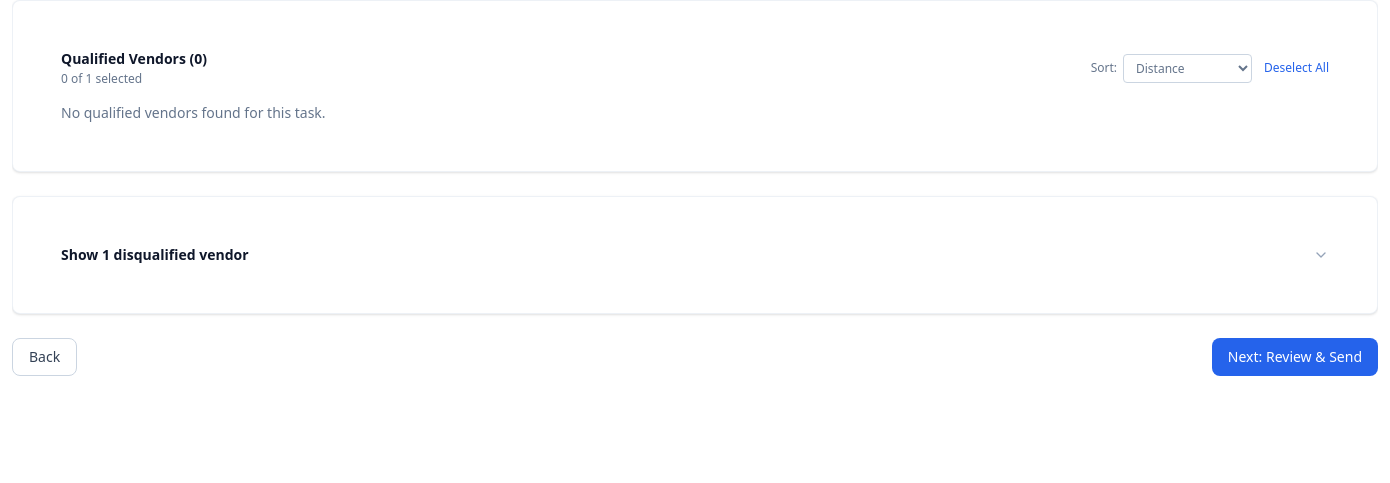
Scenario: VendorSelectionStep advisories › keeps an expired vendor in the disqualified list, not as an advisory
This screenshot has width=1390, height=483.
# Reveal the disqualified section.
What coordinates should you click on to do the following:
click the button "Show 1 disqualified vendor"
I would click on:
 (81, 254)
Its box is 61,245 -> 1329,265.
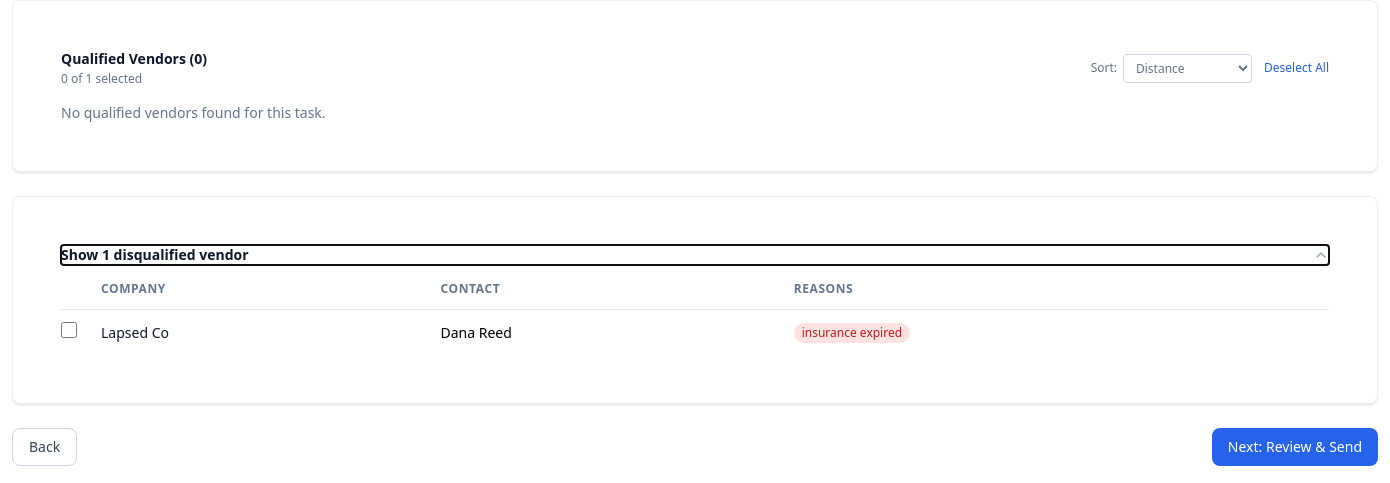
Now the text "Lapsed Co" is shown, box 101,310 -> 440,355
Now the text "insurance expired" is shown, box 794,322 -> 910,342
